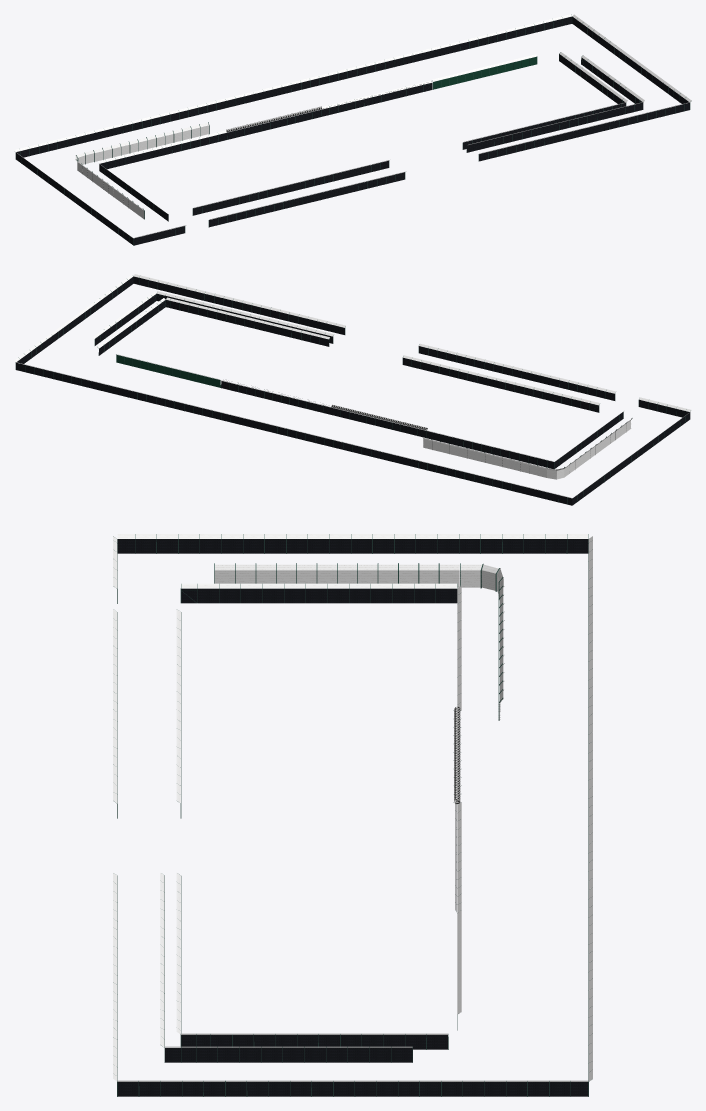
The model's file is WeiLan_ZhouJie.FBX.
3 renders of one model, top to bottom at view 1: azimuth 30°, elevation 25°; view 2: azimuth 150°, elevation 25°; view 3: azimuth 270°, elevation 25°, orthographic. The views are drawn at different scales.
Visible parts, largest first — view 1: no part large enough to name; view 2: no part large enough to name; view 3: Box551.
Boxes of the visible parts, box(x1,y1,x2,y2) form: Box551: box(460, 563, 503, 597).
Size of the model in its own units: 20961 by 410 by 7778.
